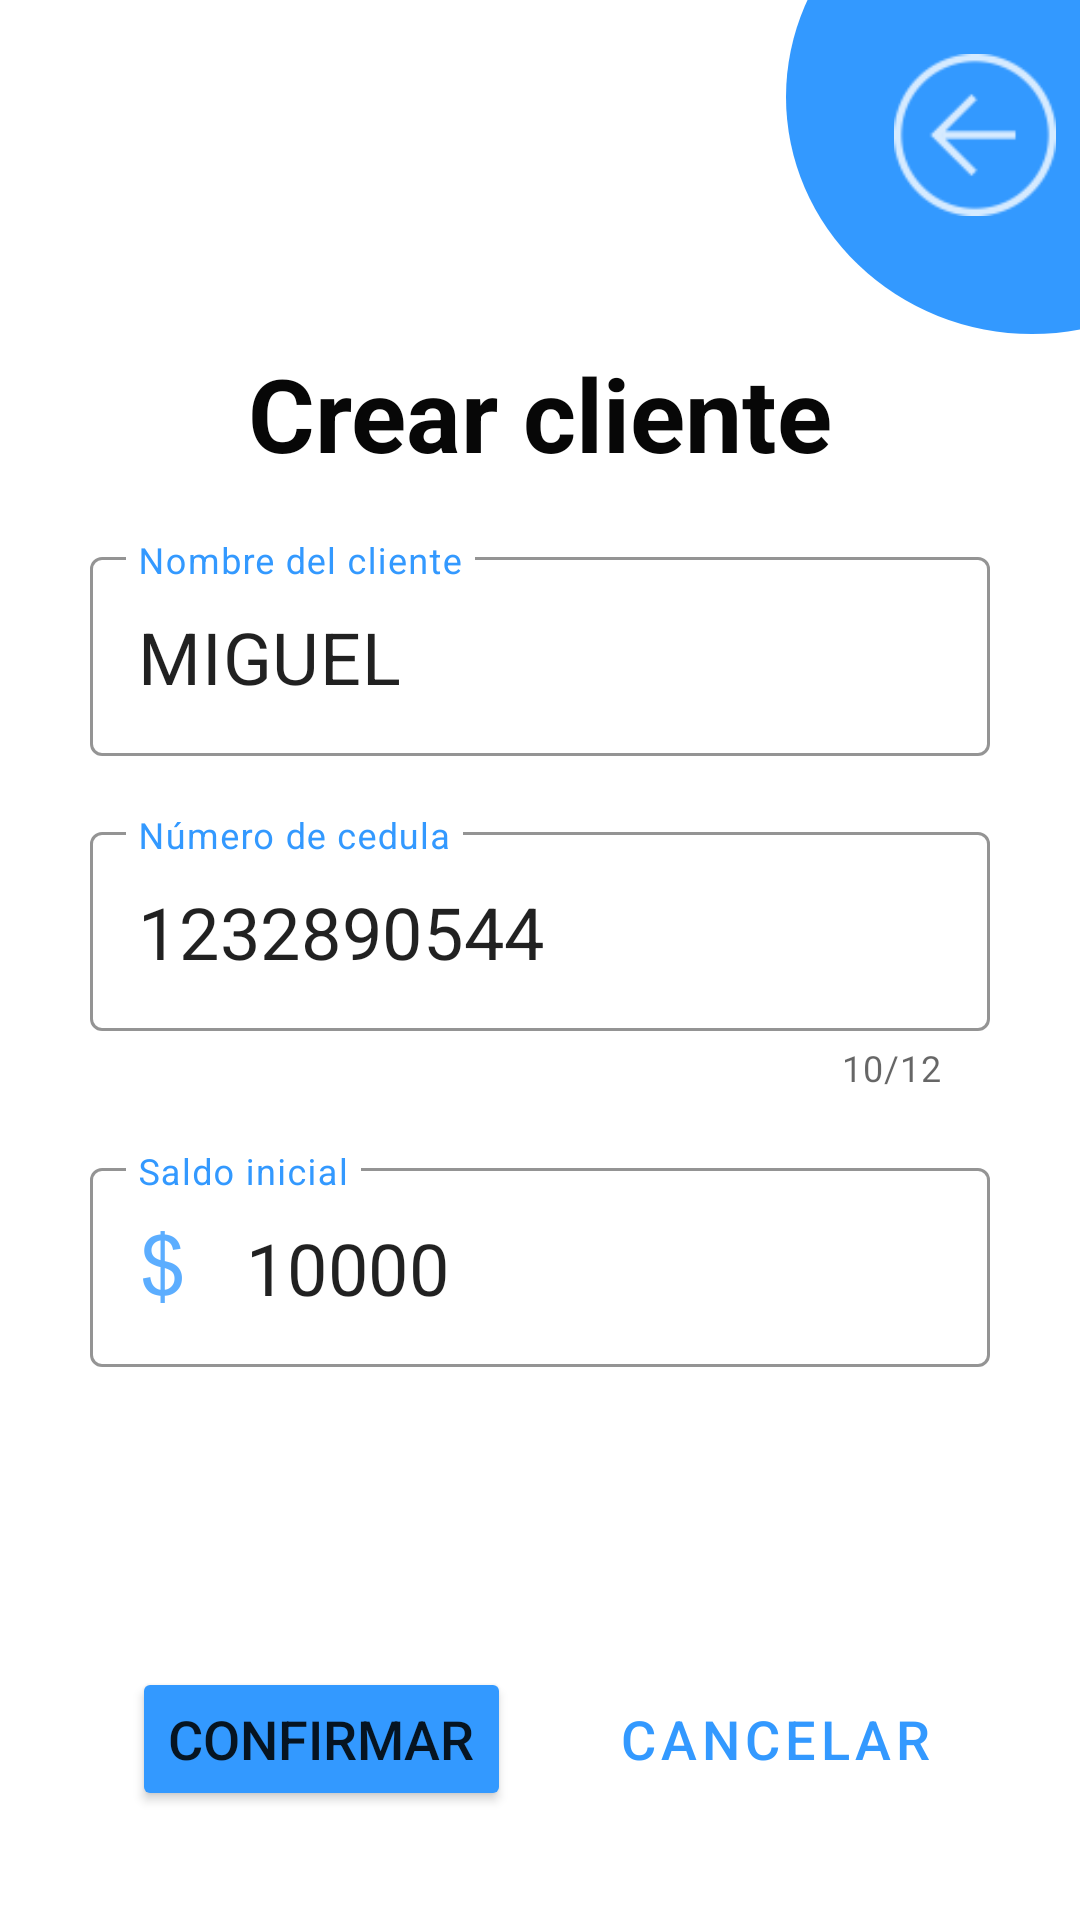

Icons on this 1080px×1920px Android screen, each with its box as (x1, y1, x2, y2):
arrowback: (894, 54, 1056, 216)
